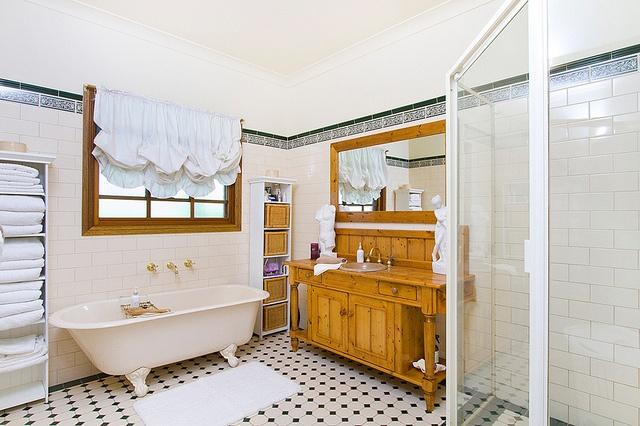Rak: (0, 148, 56, 416), (243, 175, 296, 341)
